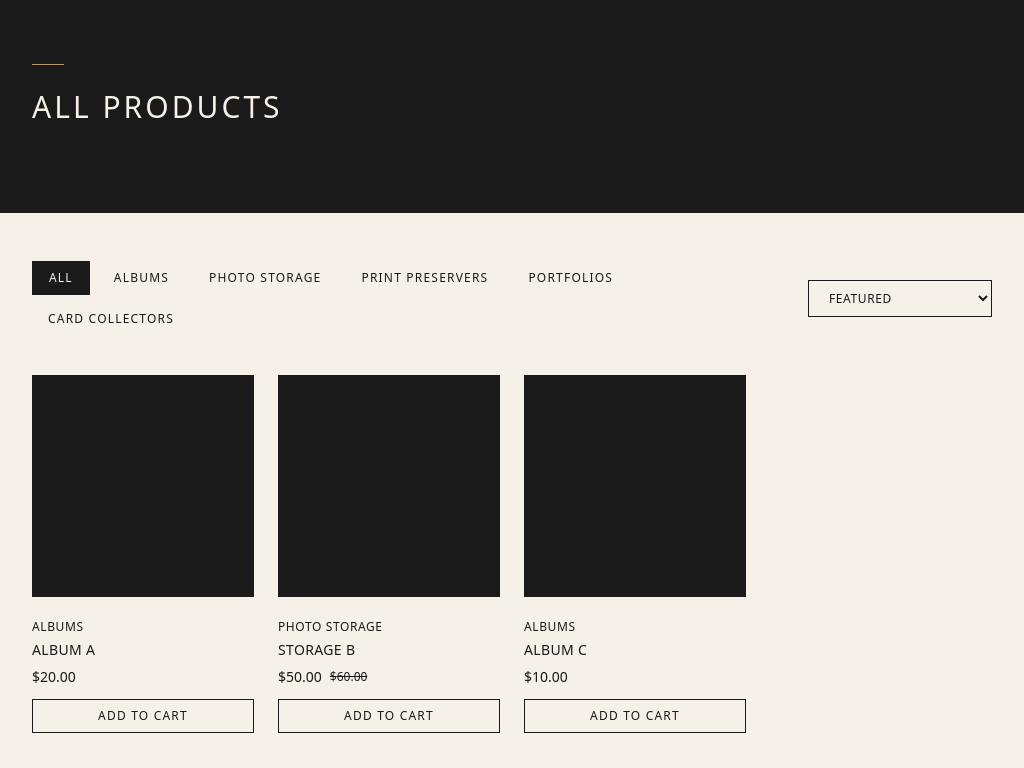
Test: ShopClient › filters by category when category button clicked
Step 1. Click the button "Albums" → (142, 278), box [98,261,185,295]
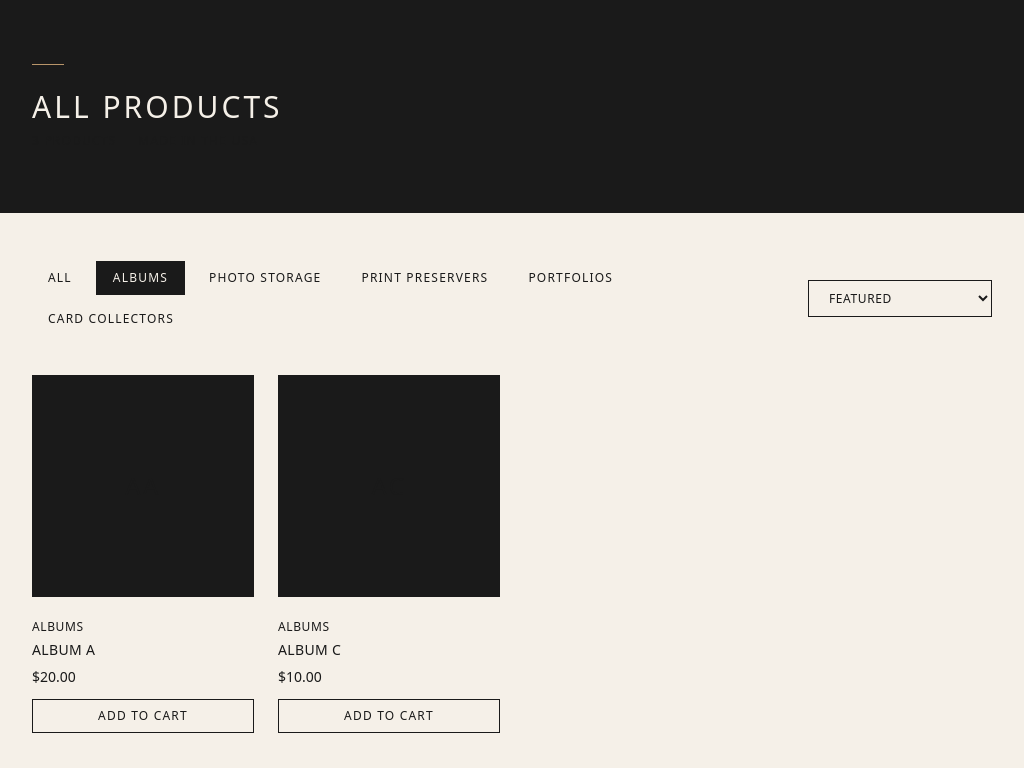
Expected: the heading "Album A" is shown, [32,640,95,659]
Expected: the link "Storage B" is gone
